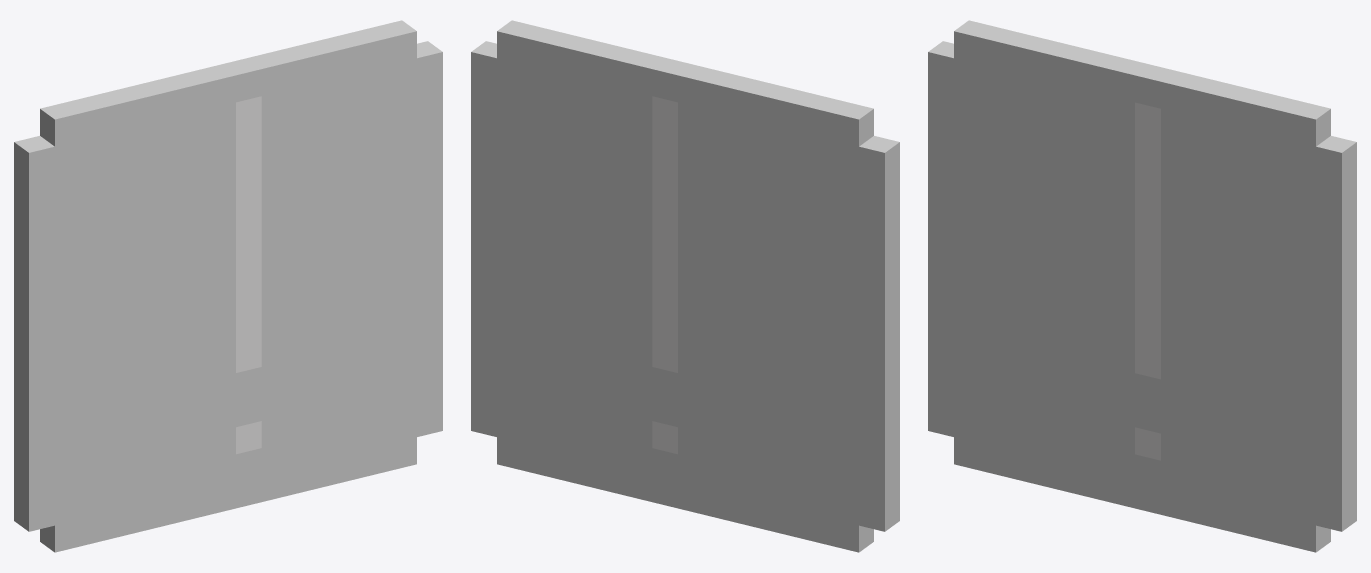
The model's file is item_ungrid.gltf.
The picture shows the model from 3 angles, left to right: view 1: azimuth 30°, elevation 25°; view 2: azimuth 150°, elevation 25°; view 3: azimuth 330°, elevation 25°; orthographic projection.
Parts seen in each view (by area): view 1: item; view 2: item; view 3: item.
Part boxes in pixels (<box>): item: <box>14,20,442,552</box>; item: <box>471,20,899,552</box>; item: <box>928,20,1356,552</box>.
Size of what is drawn, in the model's own units: 1 by 1 by 0.0625.
Materials: 1 (1 with a texture image).
